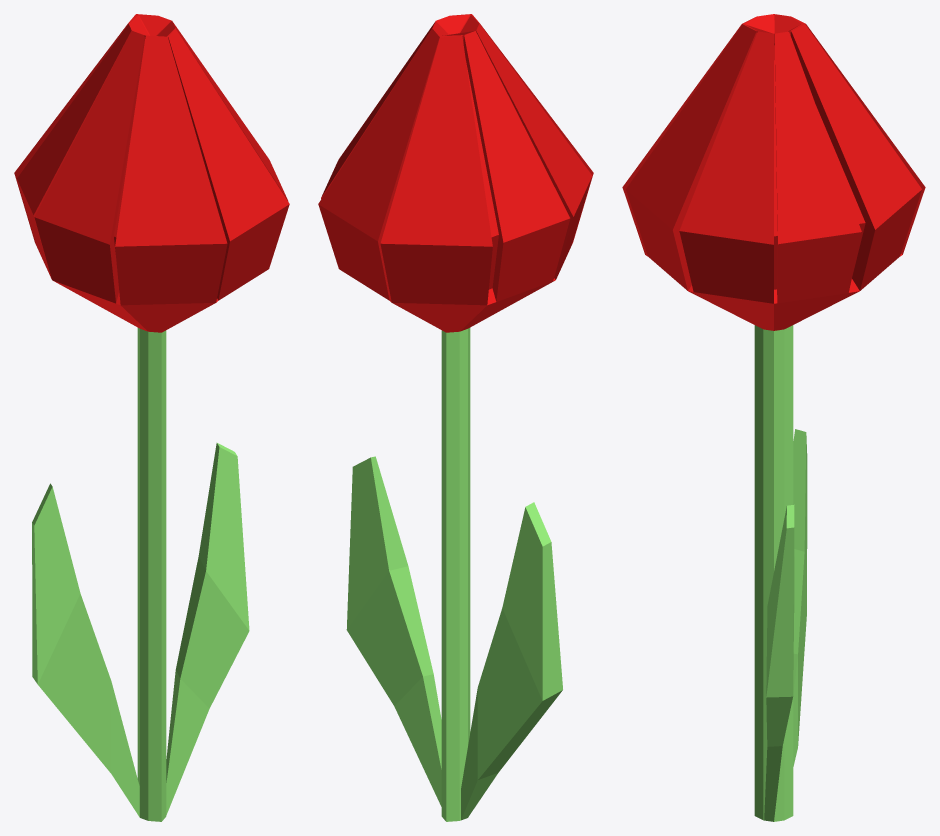
Rendered from Flor_003_LOD.fbx.
3 renders of one model, left to right at view 1: azimuth 30°, elevation 25°; view 2: azimuth 150°, elevation 25°; view 3: azimuth 270°, elevation 25°, orthographic.
Parts seen in each view (by area): view 1: Flor_003_LOD0; view 2: Flor_003_LOD0; view 3: Flor_003_LOD0.
Boxes of the visible parts, box(x1,y1,x2,y2) form: Flor_003_LOD0: box(14, 14, 289, 821); Flor_003_LOD0: box(318, 14, 593, 821); Flor_003_LOD0: box(622, 14, 925, 821).
Size of what is drawn, in the model's own units: 66.57 by 213 by 74.04.
